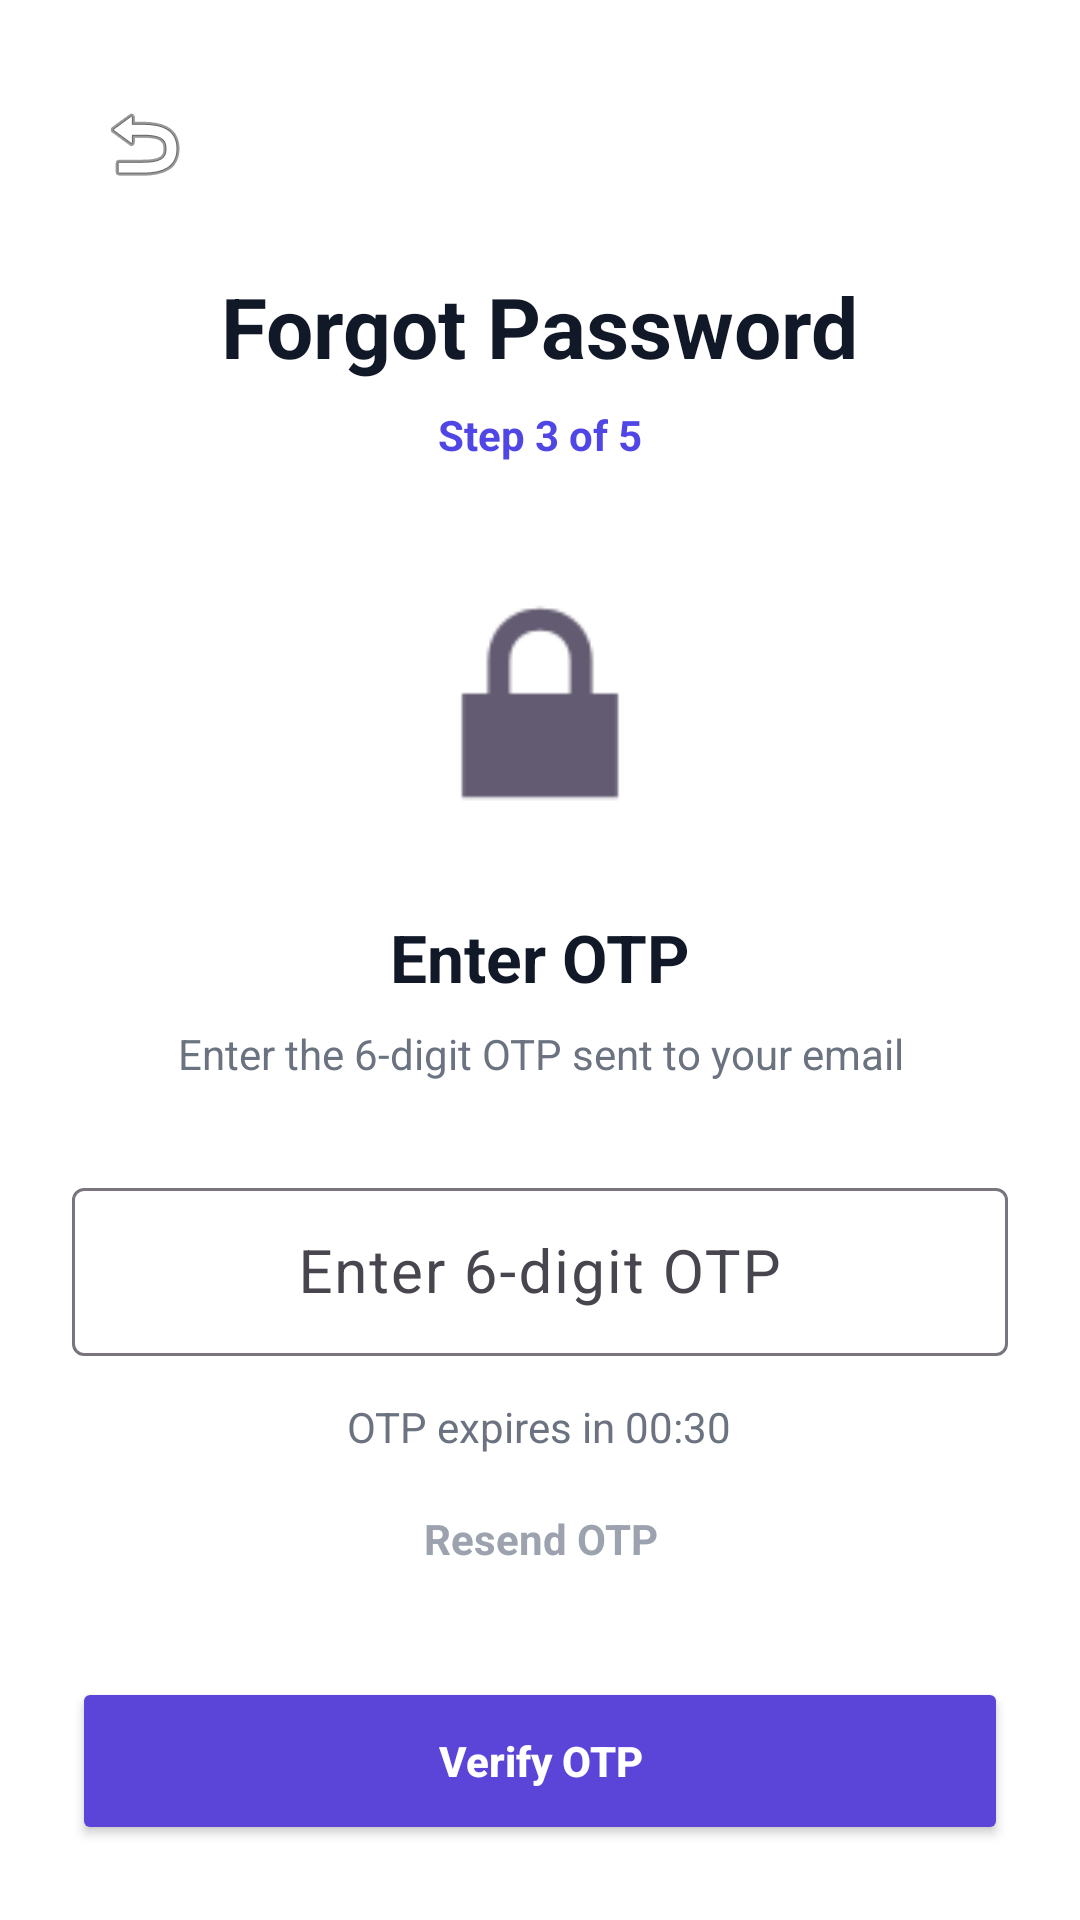

Icon bounding boxes for this 1080px×1920px phone screenshot, format (x1, y1, x2, y2):
Back: (111, 113, 180, 176)
